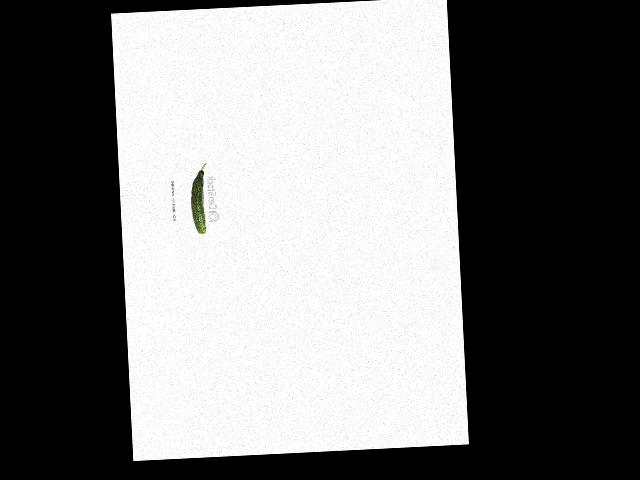cucumber: (189, 162, 209, 234)
